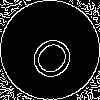O: (25, 25, 86, 85)
